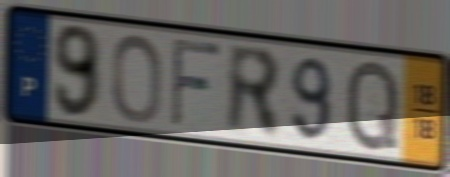9: (50, 22, 107, 122), (287, 54, 339, 144)
F: (168, 34, 225, 131)
O: (110, 31, 165, 127)
Q: (343, 56, 402, 155)
R: (225, 40, 283, 143)
